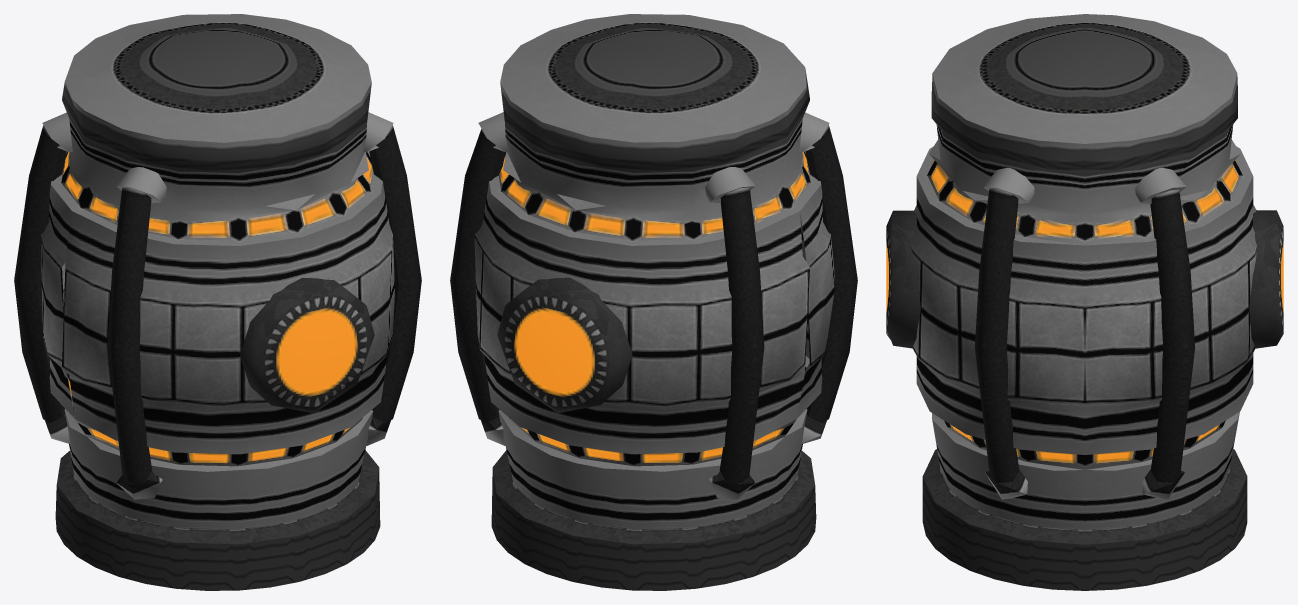
The model's file is FUT0110002.fbx.
3 renders of one model, left to right at view 1: azimuth 30°, elevation 25°; view 2: azimuth 150°, elevation 25°; view 3: azimuth 270°, elevation 25°, orthographic.
Parts seen in each view (by area): view 1: smFUT0110002; view 2: smFUT0110002; view 3: smFUT0110002.
Boxes of the visible parts, x1,y1,x2,y2 form: smFUT0110002: [14, 14, 421, 590]; smFUT0110002: [450, 14, 857, 590]; smFUT0110002: [886, 14, 1283, 590].
Size of the model in its own units: 83.78 by 120 by 92.54.
1 material, 1 textured.
